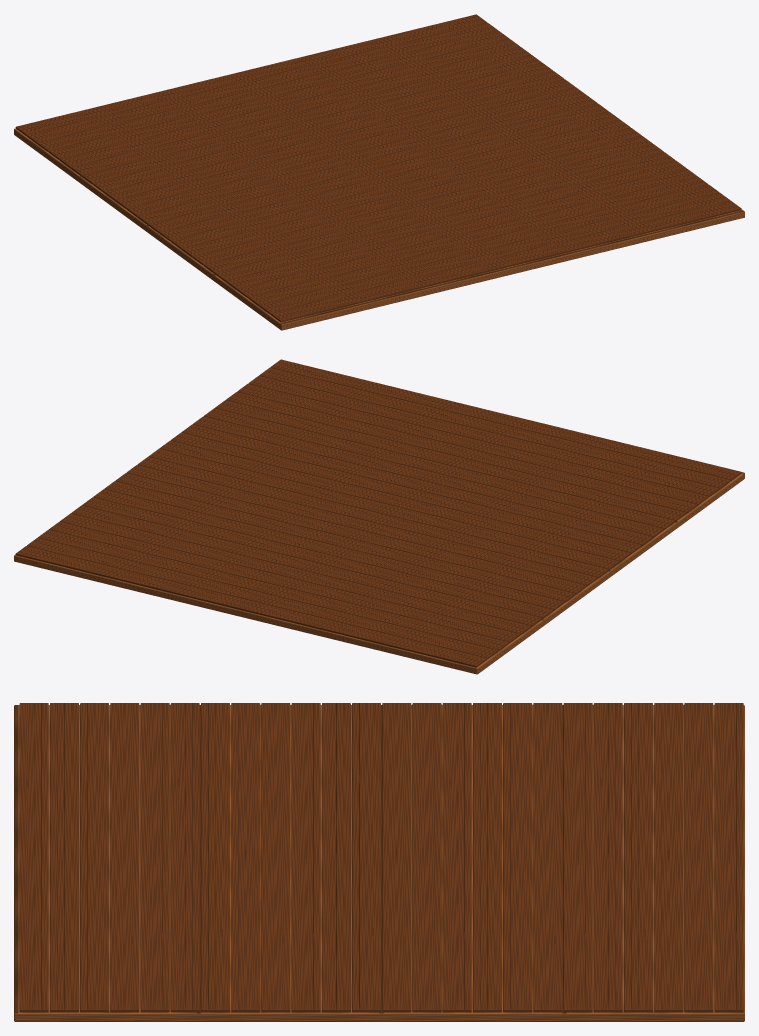
The model's file is printing-press-and-newspaper-office-office-floor-tile-aa622335__37770.glb.
3 renders of one model, top to bottom at view 1: azimuth 30°, elevation 25°; view 2: azimuth 150°, elevation 25°; view 3: azimuth 270°, elevation 25°, orthographic. The views are drawn at different scales.
Visible parts, largest first — view 1: office-floor-tile; view 2: office-floor-tile; view 3: office-floor-tile.
Boxes of the visible parts, bbox=[...] form: office-floor-tile: bbox=[14, 14, 744, 330]; office-floor-tile: bbox=[14, 359, 744, 674]; office-floor-tile: bbox=[14, 703, 744, 1021].
Size of the model in its own units: 6 by 0.1039 by 6.
2 materials, 2 textured.
